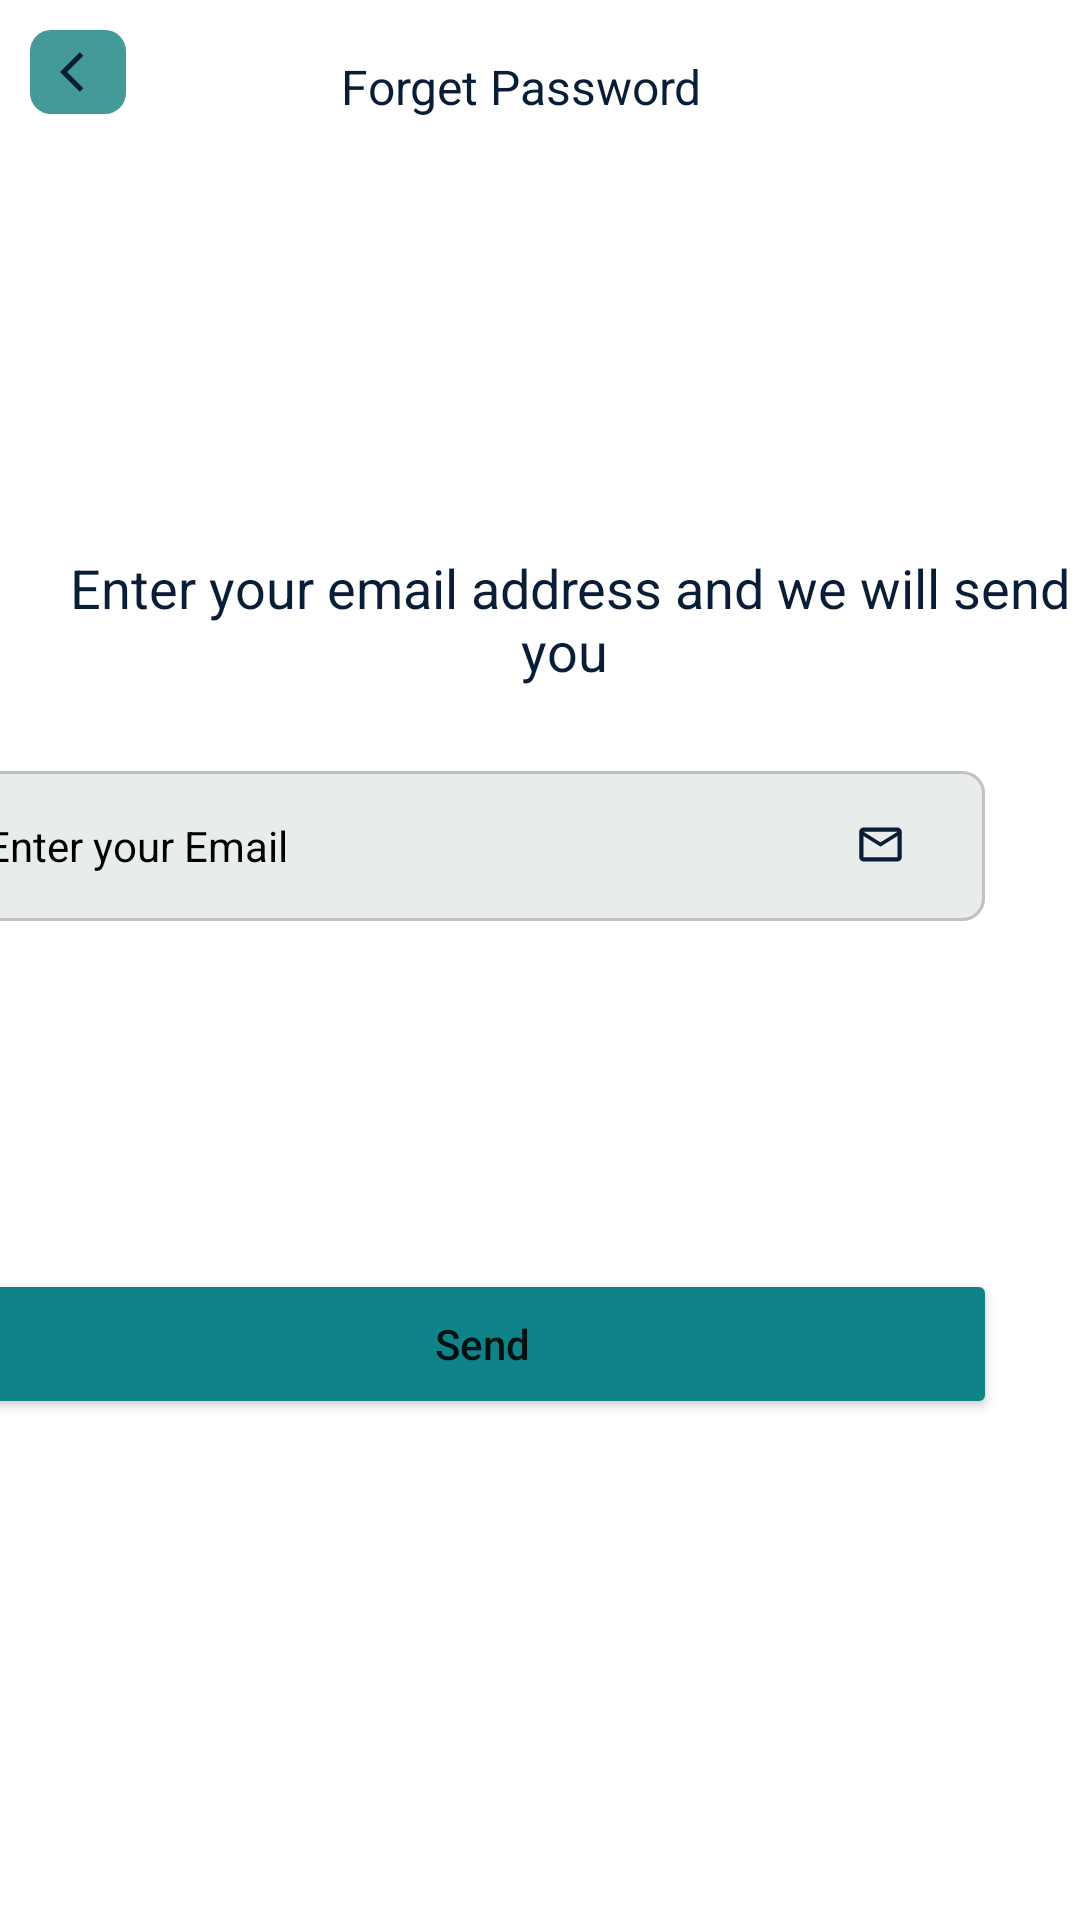

Icons on this 1080w x 1920h Android screen, each with the point to tap as [x,y]:
arrow back: [71,72]
